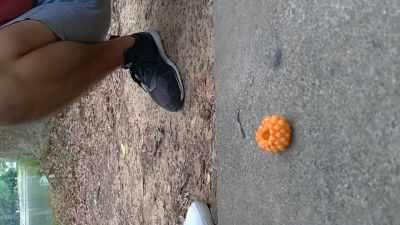eggs: (256, 115, 296, 154)
